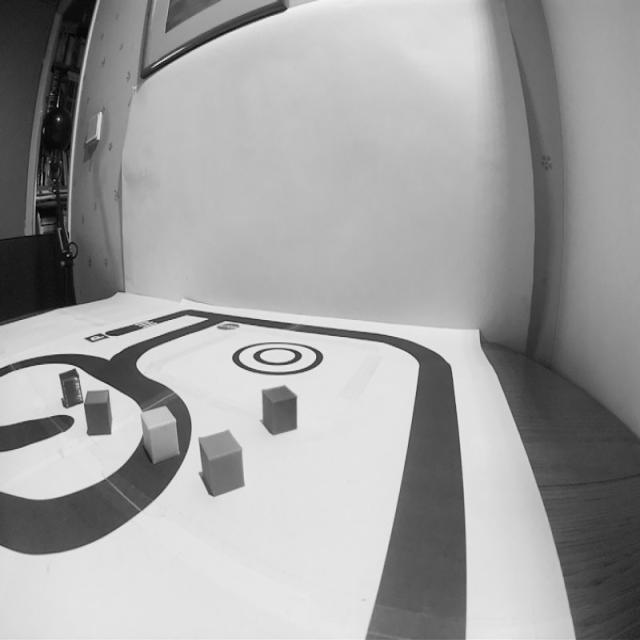cockade: (230, 338, 327, 378)
cube: (195, 422, 248, 505), (138, 403, 181, 469), (260, 380, 300, 436), (81, 385, 115, 438), (58, 363, 84, 412)
lineStraight: (350, 470, 490, 640)
